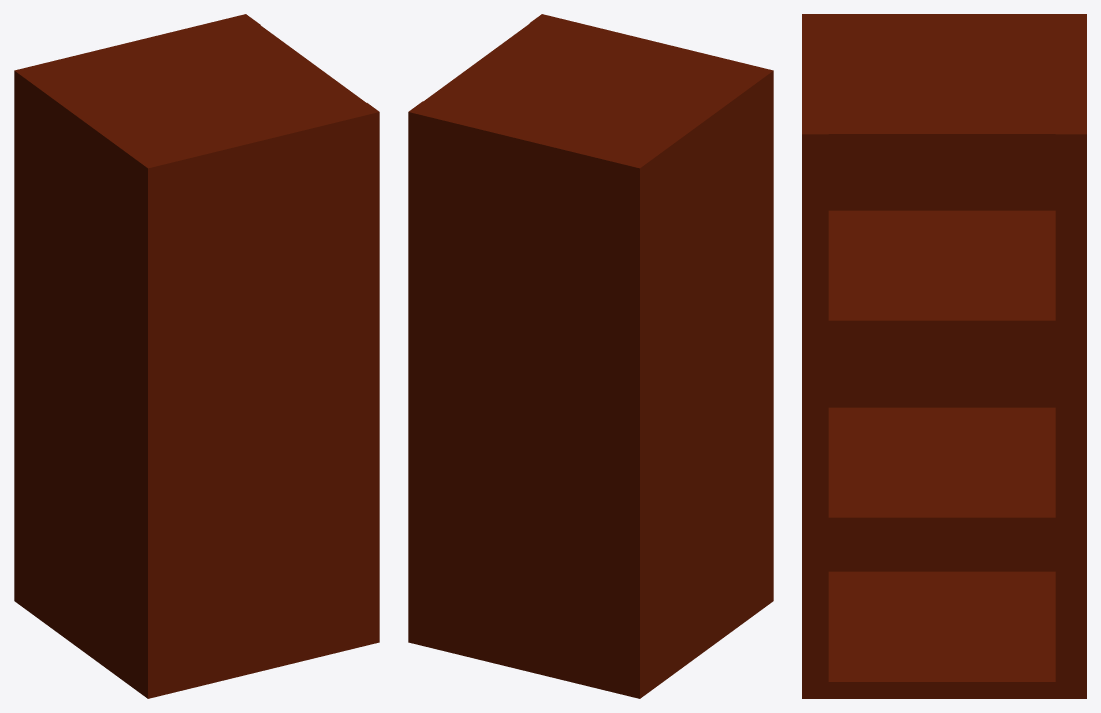
The model's file is mueble.fbx.
The picture shows the model from 3 angles, left to right: view 1: azimuth 30°, elevation 25°; view 2: azimuth 150°, elevation 25°; view 3: azimuth 270°, elevation 25°; orthographic projection. The views are drawn at different scales.
Visible parts, largest first — view 1: Cube; view 2: Cube; view 3: Cube.
Boxes of the visible parts, x1,y1,x2,y2 form: Cube: (14,14,379,698); Cube: (408,14,773,698); Cube: (802,14,1086,698).
Size of the model in its own units: 200 by 438 by 200.
